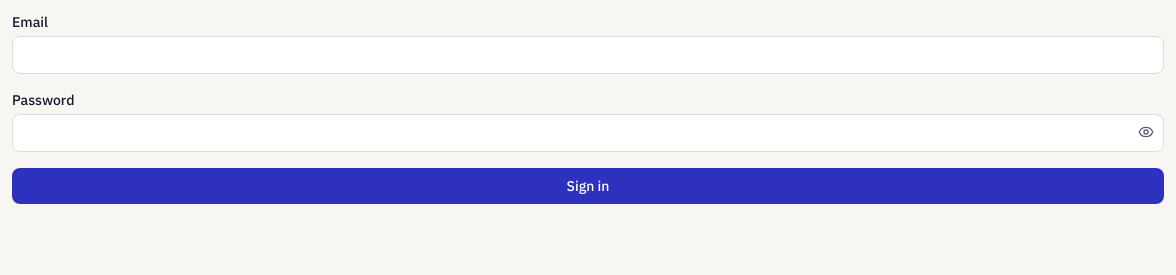
Test: <LoginForm /> › shows the server error message on failure
Type "a@b.co" into the field labelled "Email".
click(588, 55); type("a@b.co")  # box [12,36,1164,74]
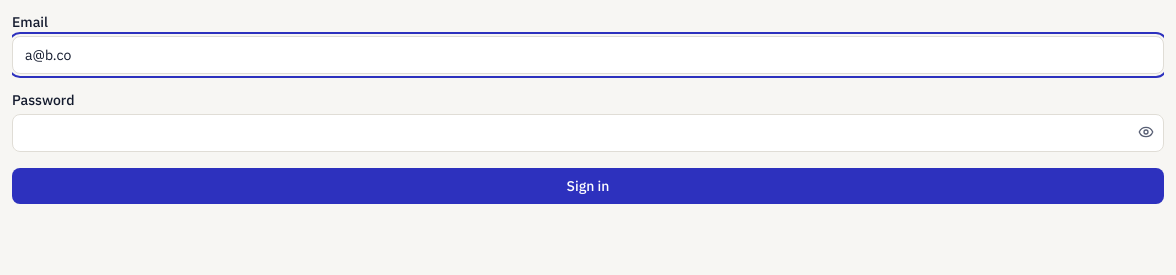
Type "x" into the password field labelled "Password".
click(588, 133); type("x")  # box [12,114,1164,152]
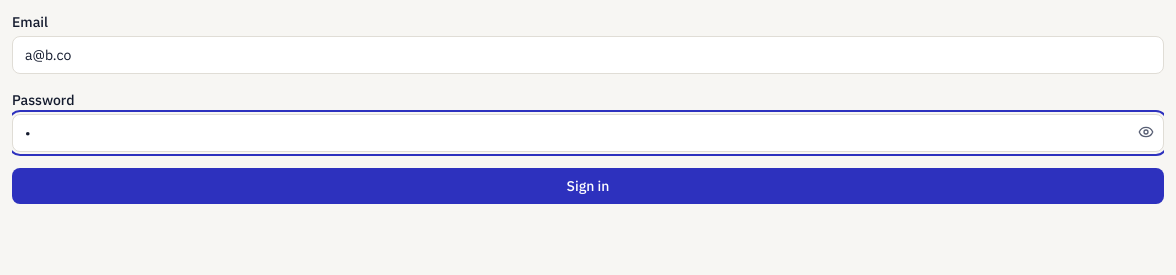
Click the button "Sign in".
click(588, 186)  # box [12,168,1164,204]
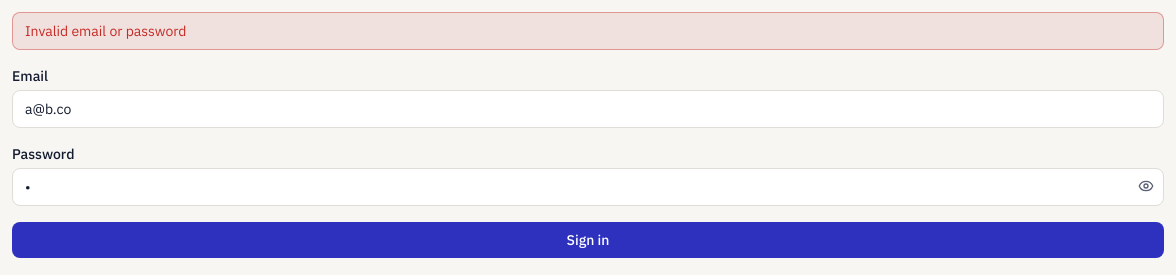
expect the text "Invalid email or password" is shown: met, box [12,12,1164,50]
